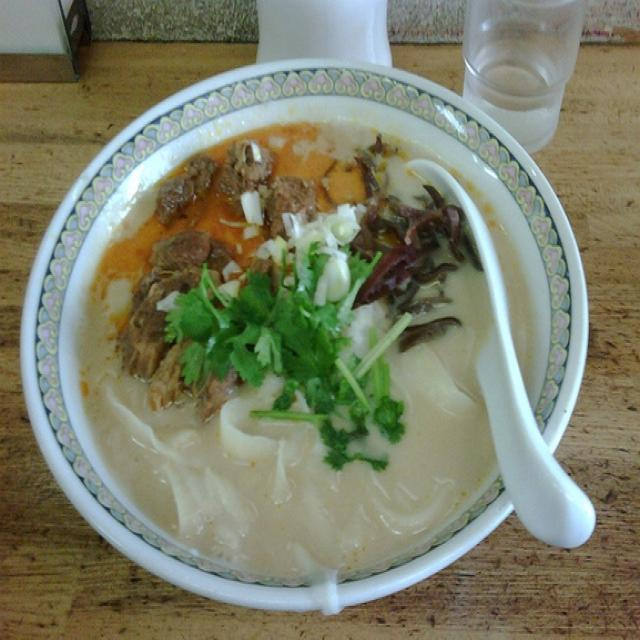面条主食: (38, 66, 586, 588)
